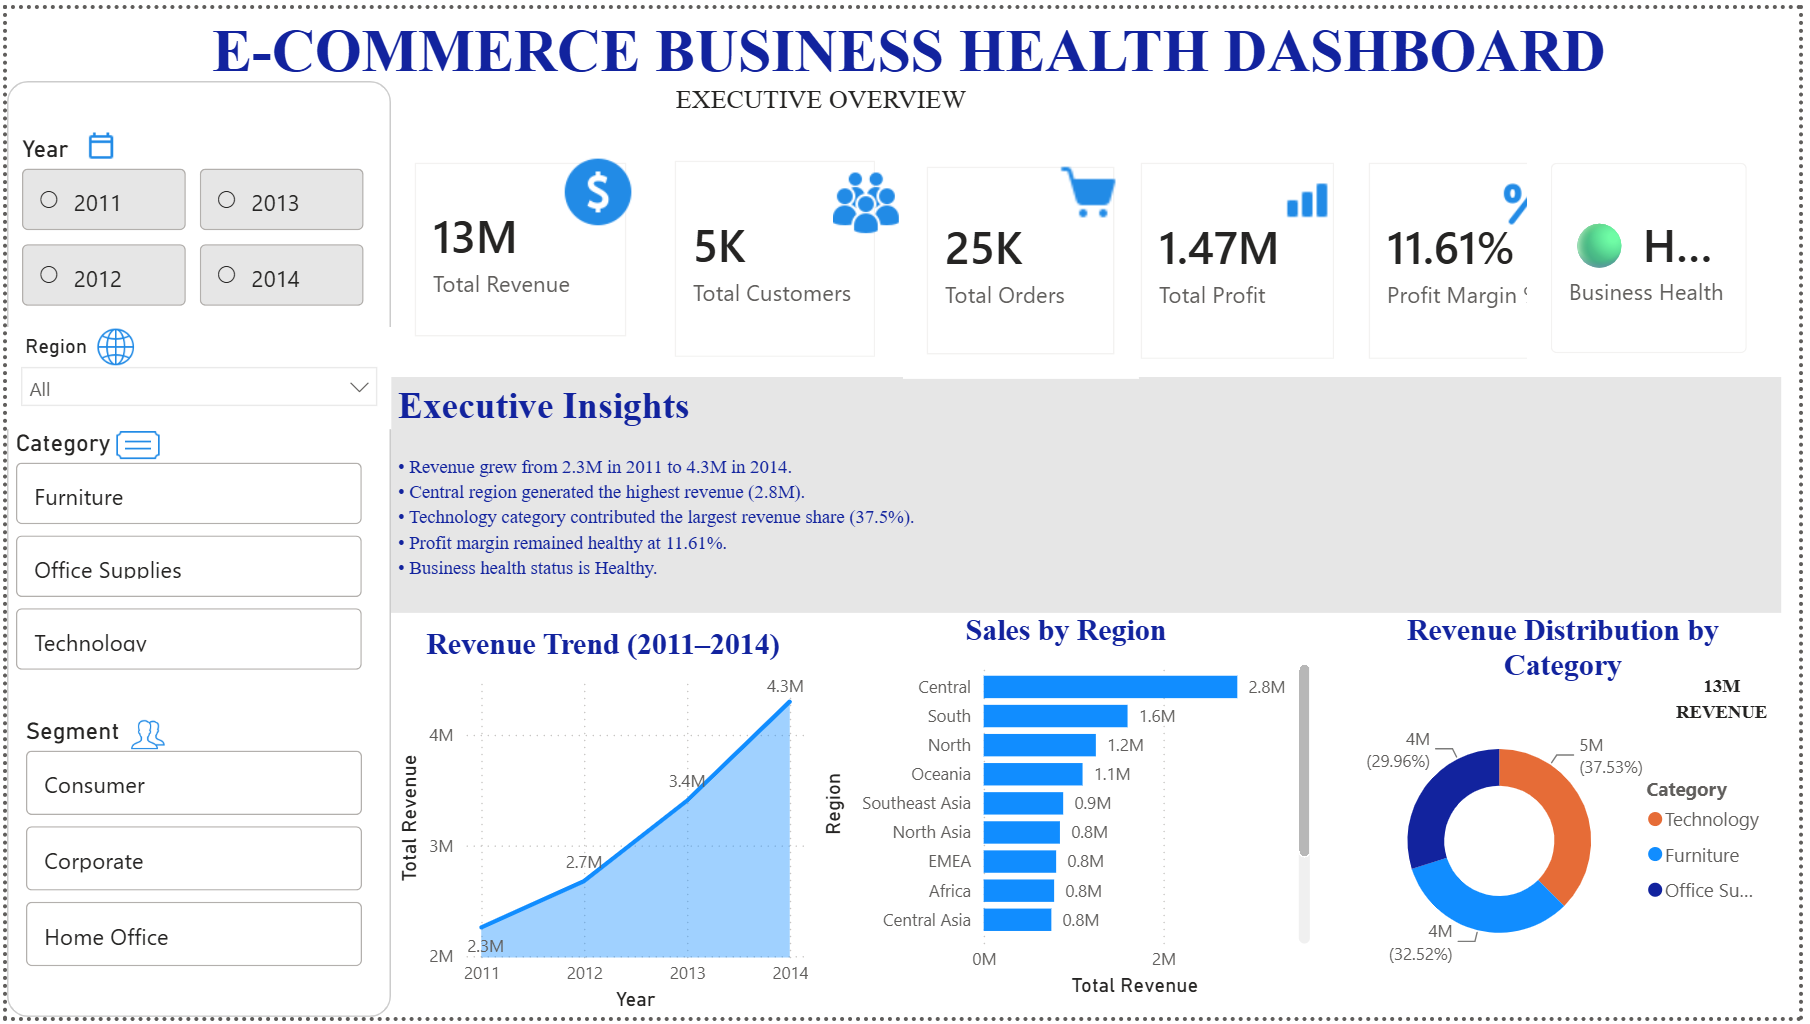

What the dashboard file says about the page in this screenshot:
{"tool":"powerbi","page":{"name":"Executive  Overview","canvas":[1280,720],"ordinal":0},"visuals":[{"type":"textbox","box":[492.9,51.4,245.7,37.1],"z":0},{"type":"cardVisual","fields":{"Data":["Sum(superstore.Sales)"]},"box":[274.3,92.9,185.7,158.6],"z":4,"group":"g1"},{"type":"image","box":[391.6,101.9,61.4,58.3],"z":9,"group":"g1"},{"type":"textbox","box":[141.4,0,1051.4,98.6],"z":1000},{"type":"group","id":"g1","title":"Group 1","box":[274.3,92.9,185.7,158.6],"z":2000},{"type":"group","id":"g2","title":"Group 2","box":[460,91.4,177.1,174.3],"z":3000},{"type":"cardVisual","fields":{"Data":["Sum(superstore.Profit)"]},"box":[793.1,92.4,172.9,174.3],"z":3000,"group":"g6"},{"type":"cardVisual","fields":{"Data":["superstore.Profit Margin %"]},"box":[940,91.4,172.9,174.3],"z":4000,"group":"g4"},{"type":"group","id":"g3","title":"Group 3","box":[793.1,92.4,172.9,174.3],"z":4000},{"type":"cardVisual","fields":{"Data":["superstore.Total Customers"]},"box":[460,91.4,177.1,174.3],"z":5000,"group":"g2"},{"type":"group","id":"g4","title":"Group 4","box":[940,91.4,172.9,174.3],"z":5000},{"type":"cardVisual","fields":{"Data":["superstore.Total Orders"]},"box":[640,95.7,168.6,168.6],"z":6000,"group":"g5"},{"type":"textbox","box":[274.3,262.9,992.9,168.6],"z":6000},{"type":"image","box":[590.4,112,47.1,54.2],"z":7000,"group":"g2"},{"type":"lineChart","title":"Revenue Trend (2011–2014)","fields":{"Category":["superstore.Order Date.Variation.Date Hierarchy.Year","superstore.Order Date.Variation.Date Hierarchy.Quarter","superstore.Order Date.Variation.Date Hierarchy.Month","superstore.Order Date.Variation.Date Hierarchy.Day"],"Y":["Sum(superstore.Sales)"]},"box":[274.3,441.4,302.9,278.6],"z":7000},{"type":"image","box":[750.3,110.4,46.1,42.9],"z":8000,"group":"g5"},{"type":"clusteredBarChart","title":"Sales by Region","fields":{"Category":["superstore.Region"],"Y":["Sum(superstore.Sales)"]},"box":[577.1,431.4,358.6,278.6],"z":8000},{"type":"image","box":[910.3,111.9,36,47.5],"z":9000,"group":"g6"},{"type":"donutChart","title":"Revenue Distribution by Category","fields":{"Category":["superstore.Category"],"Y":["Sum(superstore.Sales)"]},"box":[955.7,431.4,311.4,278.6],"z":9000},{"type":"group","id":"g5","title":"Group 5","box":[640,95.7,168.6,168.6],"z":10000},{"type":"image","box":[1041.8,110.6,55.2,55.7],"z":10000,"group":"g4"},{"type":"textbox","box":[1187.1,468.6,78.6,48.6],"z":11000},{"type":"group","id":"g6","title":"Group 6","box":[793.1,92.4,172.9,174.3],"z":11011,"group":"g3"},{"type":"advancedSlicerVisual","fields":{"Values":["superstore.Year"]},"box":[12.4,60.6,248.6,170],"z":12000},{"type":"shape","box":[0,51.4,274.3,668.6],"z":13000},{"type":"advancedSlicerVisual","fields":{"Values":["superstore.Year"]},"box":[5.7,90,255.7,127.1],"z":13000,"group":"g8"},{"type":"image","box":[87.5,303.3,30,27.1],"z":13000,"group":"g9"},{"type":"group","id":"g7","title":"Group 7","box":[0,227.1,274.3,72.9],"z":14000},{"type":"slicer","fields":{"Values":["superstore.Region"]},"box":[0,227.1,274.3,72.9],"z":14000,"group":"g7"},{"type":"group","id":"g8","title":"Group 9","box":[5.7,84.3,255.7,132.9],"z":15000},{"type":"image","box":[55.7,84.3,22.9,28.6],"z":15000,"group":"g8"},{"type":"group","id":"g9","title":"Group 10","box":[1.4,300,257.1,177.1],"z":16000},{"type":"image","box":[68.6,295.7,50,31.4],"z":17000},{"type":"advancedSlicerVisual","fields":{"Values":["superstore.Category"]},"box":[1.4,300,257.1,177.1],"z":17001,"group":"g9"},{"type":"image","box":[61.4,227.1,32.9,28.6],"z":18000,"group":"g7"},{"type":"advancedSlicerVisual","fields":{"Values":["superstore.Segment"]},"box":[8.6,505.7,250,185.7],"z":18000},{"type":"image","box":[87.1,505.7,27.1,24.3],"z":19000},{"type":"cardVisual","fields":{"Data":["superstore.Business Health"]},"box":[1085.7,92.9,190,170],"z":20000}]}

Visuals, with their boxes in screenshot pixels (x1, y1, x2, y2), scaled from the page's 1280x720 canvas onto the 1810x1024 screenshot:
textbox: BBox(697, 73, 1044, 126)
cardVisual - Sum(superstore.Sales): BBox(388, 132, 650, 358)
image: BBox(554, 145, 641, 228)
textbox: BBox(200, 0, 1687, 140)
"Group 1" group: BBox(388, 132, 650, 358)
"Group 2" group: BBox(650, 130, 901, 378)
cardVisual - Sum(superstore.Profit): BBox(1121, 131, 1366, 379)
cardVisual - superstore.Profit Margin %: BBox(1329, 130, 1574, 378)
"Group 3" group: BBox(1121, 131, 1366, 379)
cardVisual - superstore.Total Customers: BBox(650, 130, 901, 378)
"Group 4" group: BBox(1329, 130, 1574, 378)
cardVisual - superstore.Total Orders: BBox(905, 136, 1143, 376)
textbox: BBox(388, 374, 1792, 614)
image: BBox(835, 159, 901, 236)
"Revenue Trend (2011–2014)" lineChart: BBox(388, 628, 816, 1023)
image: BBox(1061, 157, 1126, 218)
"Sales by Region" clusteredBarChart: BBox(816, 614, 1323, 1010)
image: BBox(1287, 159, 1338, 227)
"Revenue Distribution by Category" donutChart: BBox(1351, 614, 1792, 1010)
"Group 5" group: BBox(905, 136, 1143, 376)
image: BBox(1473, 157, 1551, 237)
textbox: BBox(1679, 666, 1790, 736)
"Group 6" group: BBox(1121, 131, 1366, 379)
advancedSlicerVisual - superstore.Year: BBox(18, 86, 369, 328)
shape: BBox(0, 73, 388, 1023)
advancedSlicerVisual - superstore.Year: BBox(8, 128, 370, 309)
image: BBox(124, 431, 166, 470)
"Group 7" group: BBox(0, 323, 388, 427)
slicer - superstore.Region: BBox(0, 323, 388, 427)
"Group 9" group: BBox(8, 120, 370, 309)
image: BBox(79, 120, 111, 161)
"Group 10" group: BBox(2, 427, 366, 679)
image: BBox(97, 421, 168, 465)
advancedSlicerVisual - superstore.Category: BBox(2, 427, 366, 679)
image: BBox(87, 323, 133, 364)
advancedSlicerVisual - superstore.Segment: BBox(12, 719, 366, 983)
image: BBox(123, 719, 161, 754)
cardVisual - superstore.Business Health: BBox(1535, 132, 1804, 374)
